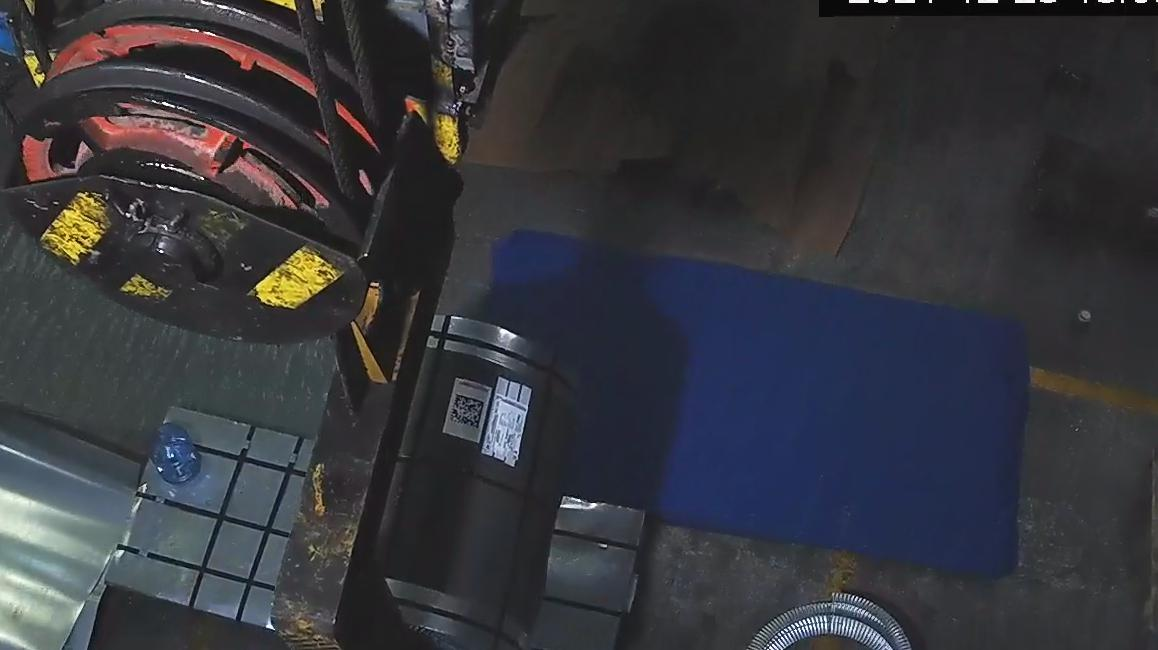data matrix: (447, 392, 488, 432)
